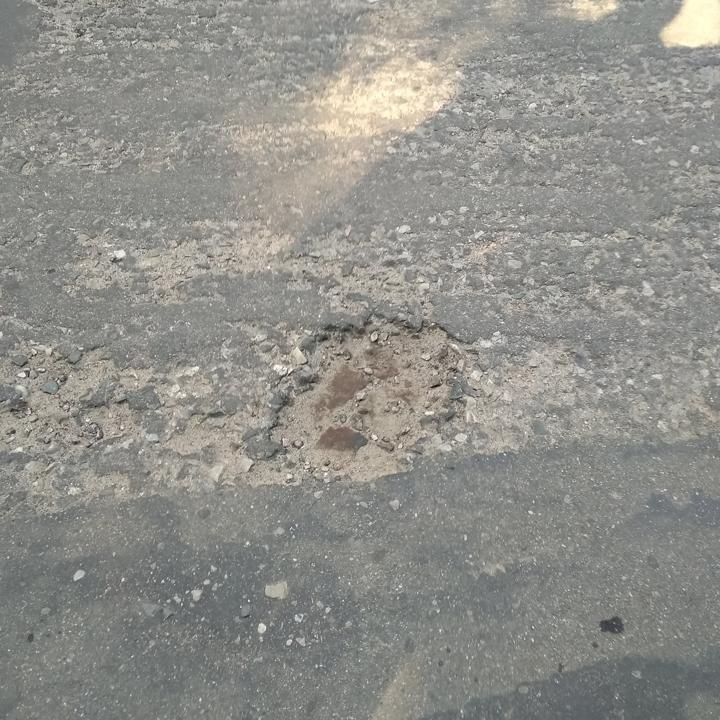pothole: (255, 305, 481, 490), (0, 341, 142, 455)
